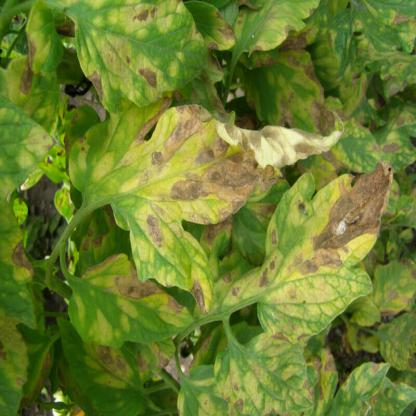tomato mold leaf: (67, 111, 337, 293), (251, 144, 402, 349), (48, 4, 221, 112), (63, 256, 196, 352)
